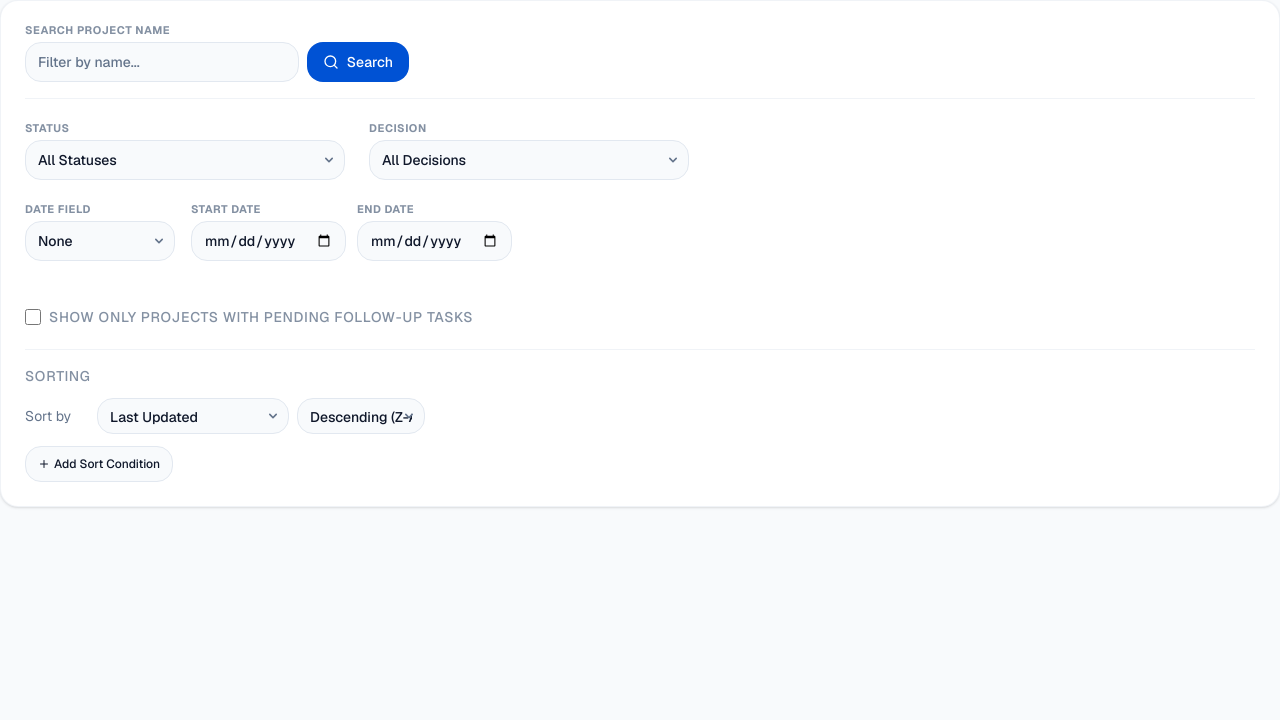
Test: ProjectFilters Component › adds a new sort condition
Click the button "Add Sort Condition" at (99, 464), box [25,446,173,482]
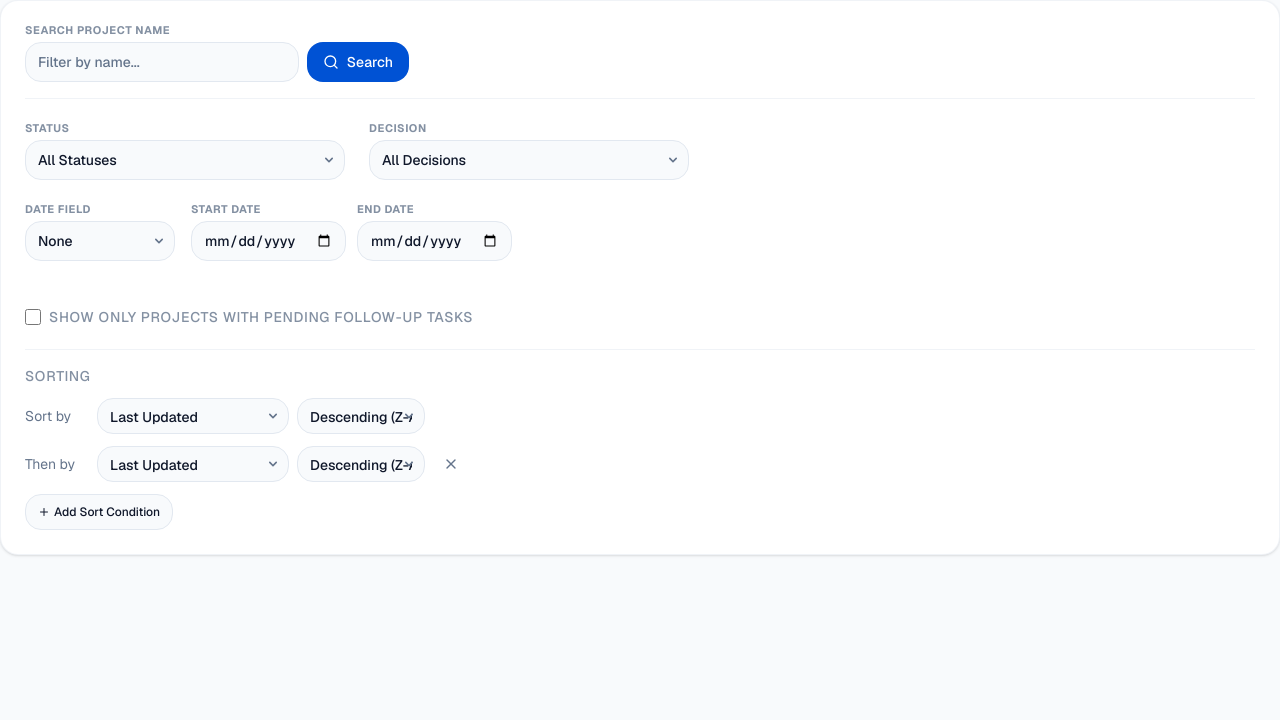
Result: the text "Sort by" is shown 2 times at [25,407,71,425]; [25,455,75,473]
